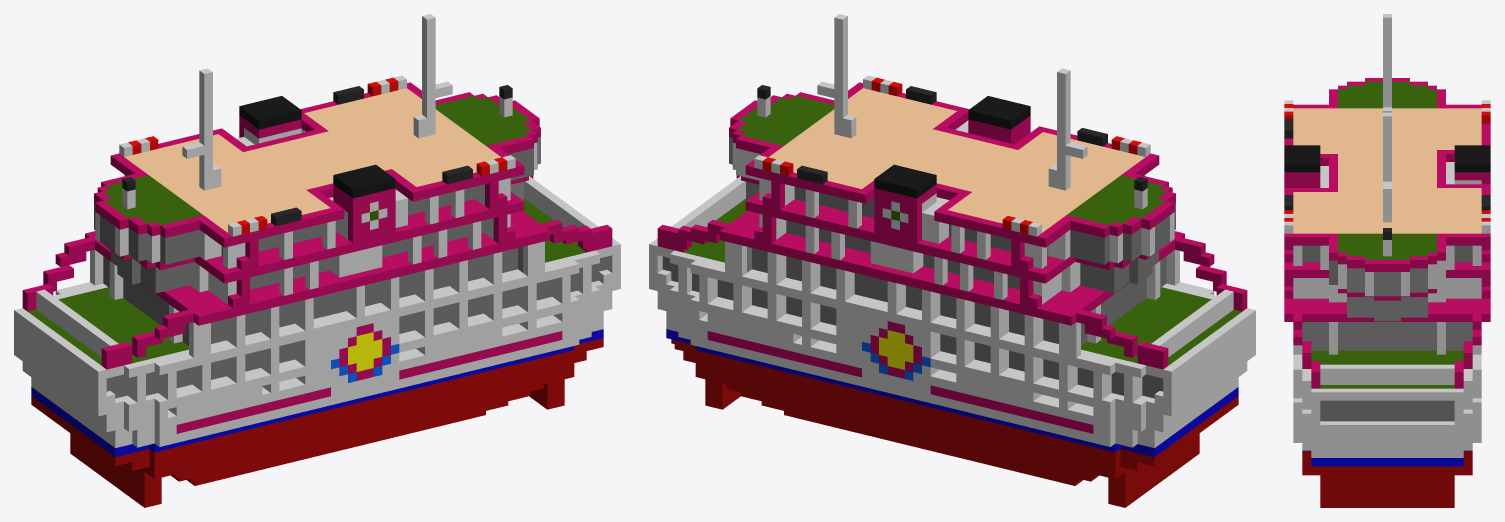
Rendered from sakurajimaferry.glb.
3 renders of one model, left to right at view 1: azimuth 30°, elevation 25°; view 2: azimuth 150°, elevation 25°; view 3: azimuth 270°, elevation 25°, orthographic. The views are drawn at different scales.
Visible parts, largest first — view 1: Untitled; view 2: Untitled; view 3: Untitled.
Part boxes in pixels (x1,y1,x2,y2): Untitled: [14, 14, 620, 507]; Untitled: [649, 14, 1255, 507]; Untitled: [1284, 14, 1490, 507].
Size of the model in its own units: 1.22 by 0.86 by 0.46.
1 material, 1 textured.
